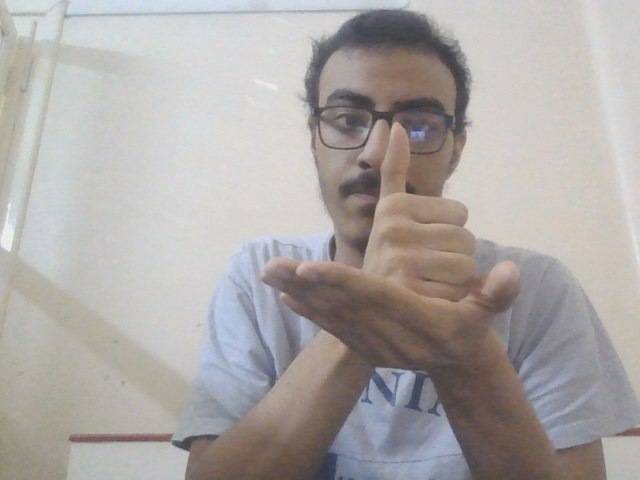Help: (254, 121, 536, 388)
